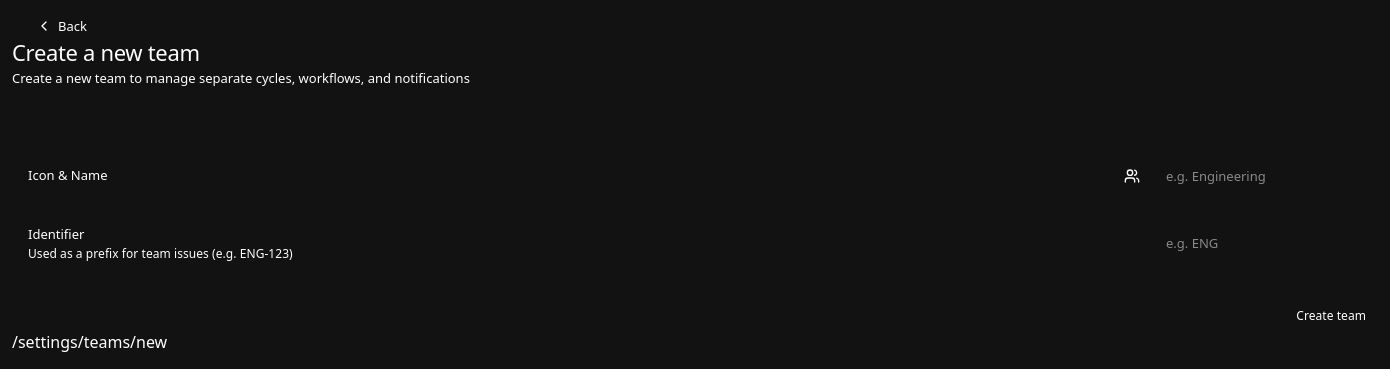
Test case: TeamCreatePage › envia name com trim, invalida a lista, avisa e navega para o Team
Type "  Platform  " into the field labelled "Icon & Name". click: (1258, 176)
box: [1154, 160, 1362, 192]
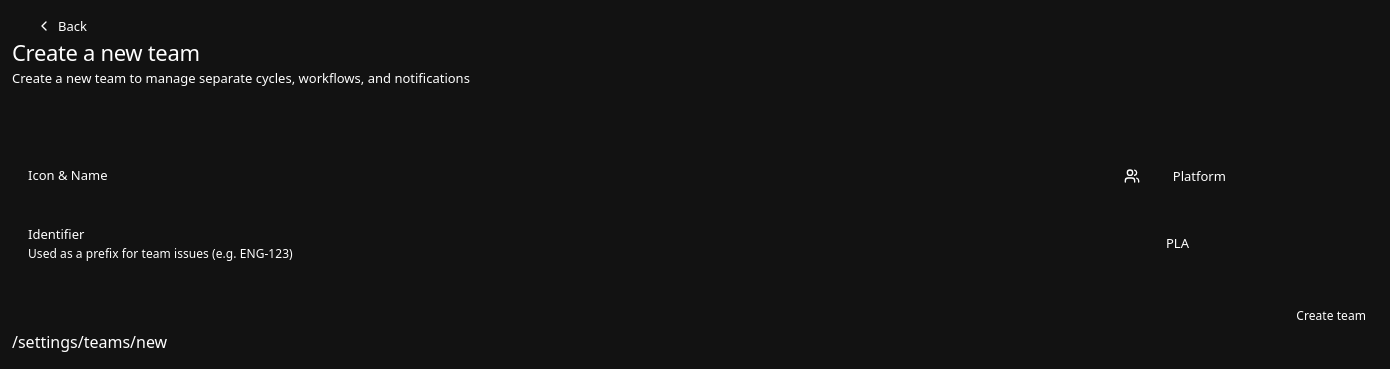
expect the field labelled "Identifier" holds "PLA": met, box [1154, 227, 1362, 259]
Click the button "Create team". click: (1331, 316)
box: [1284, 302, 1378, 330]
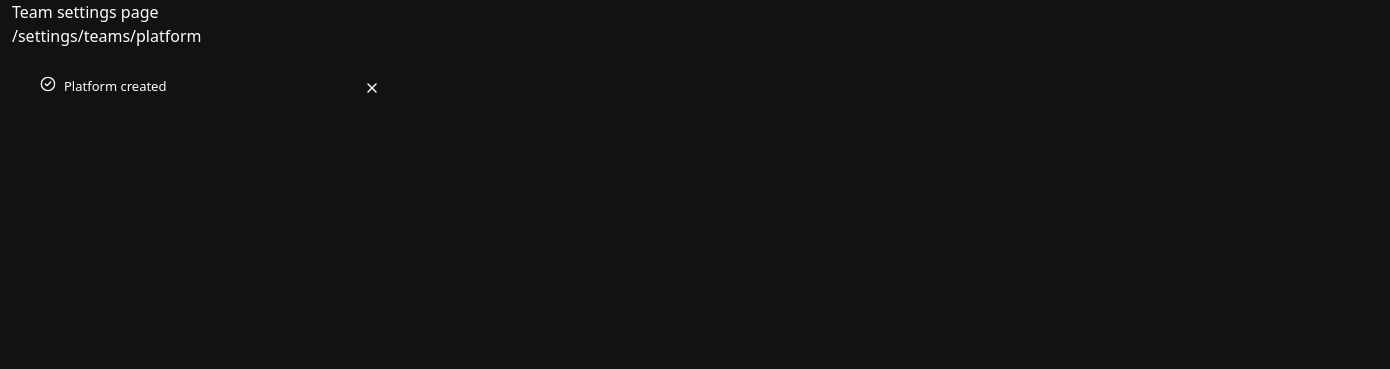
expect the text "Platform created" is shown: met, box [64, 77, 166, 95]
expect the heading "Team settings page" is shown: met, box [12, 1, 158, 23]
expect the text named "Current URL" reads "/settings/teams/platform": met, box [12, 25, 202, 47]
